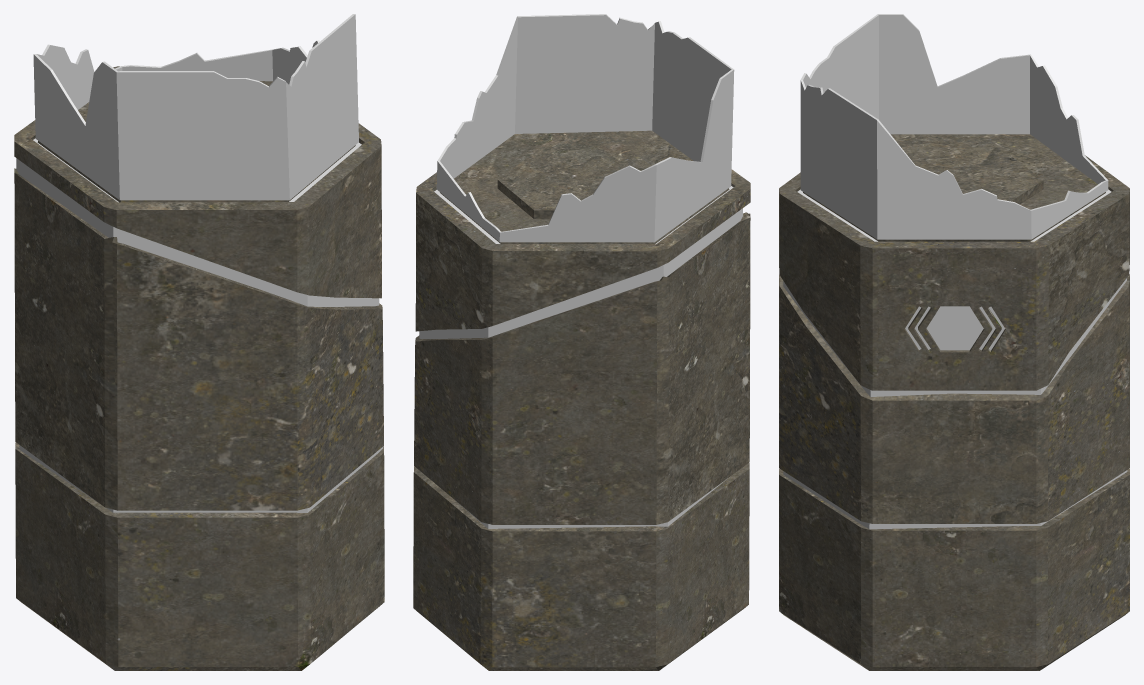
The model's file is GunitemPlate.fbx.
The picture shows the model from 3 angles, left to right: view 1: azimuth 30°, elevation 25°; view 2: azimuth 150°, elevation 25°; view 3: azimuth 270°, elevation 25°; orthographic projection. The views are drawn at different scales.
Parts seen in each view (by area): view 1: 円柱, 円柱.007, 円柱.005; view 2: 円柱, 円柱.007, 円柱.005; view 3: 円柱, 円柱.007, 円柱.005.
Part boxes in pixels (bbox=[...]): 円柱: bbox=[14, 66, 384, 670]; 円柱.007: bbox=[33, 14, 358, 200]; 円柱.005: bbox=[16, 138, 383, 512]; 円柱: bbox=[413, 130, 750, 670]; 円柱.007: bbox=[436, 14, 734, 242]; 円柱.005: bbox=[419, 186, 742, 528]; 円柱: bbox=[779, 134, 1129, 670]; 円柱.007: bbox=[800, 14, 1108, 239]; 円柱.005: bbox=[783, 189, 1127, 529].
Size of the model in its own units: 116 by 234 by 138.
